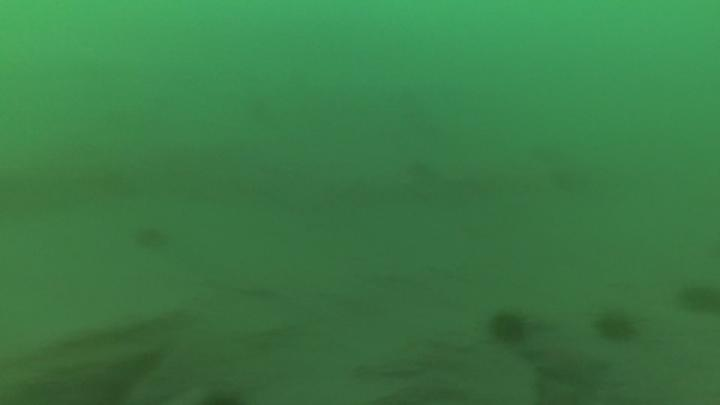echinus: (487, 307, 532, 350), (674, 281, 720, 318), (593, 309, 637, 347), (129, 224, 168, 250)
starfish: (527, 338, 611, 395)
